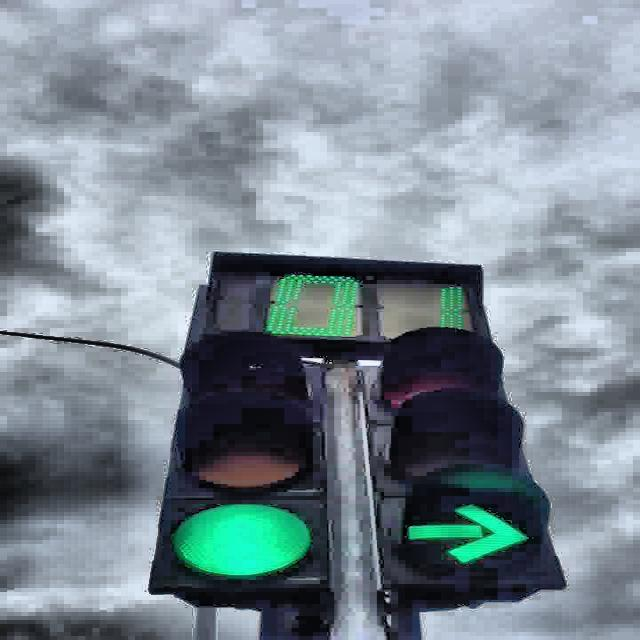green: (361, 326, 567, 594), (145, 330, 326, 592)
